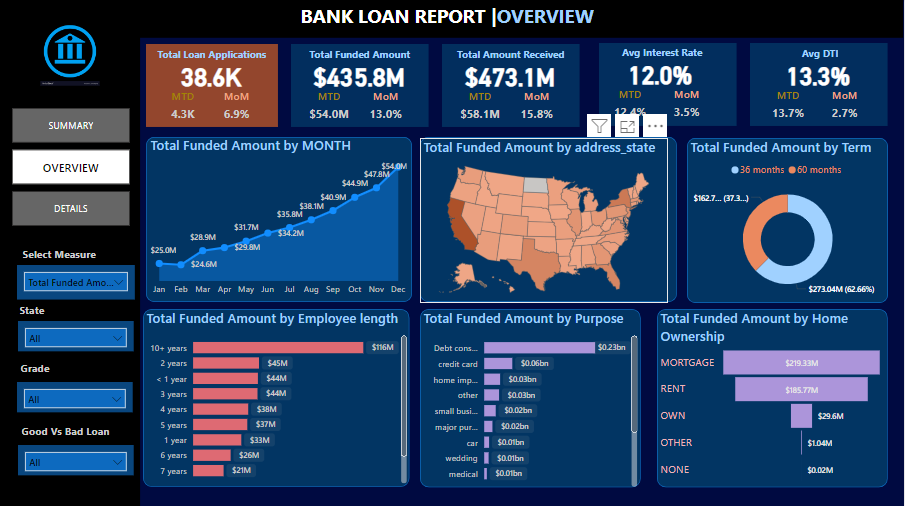

What the dashboard file says about the page in this screenshot:
{"tool":"powerbi","page":{"name":"OVERVIEW","canvas":[1280,720],"ordinal":1},"visuals":[{"type":"shape","box":[0,0,1280,55],"z":0},{"type":"shape","box":[849.7,62.4,195,117.5],"z":0,"group":"g4"},{"type":"shape","box":[1063.2,62.8,195.5,117.6],"z":0,"group":"g5"},{"type":"shape","box":[412.4,63.4,195.5,117.6],"z":0,"group":"g2"},{"type":"shape","box":[626,63.8,195.5,117.6],"z":0,"group":"g3"},{"type":"shape","box":[207.3,64.5,187.2,117.6],"z":0,"group":"g1"},{"type":"slicer","fields":{"Values":["bank_loan_data.address_state"]},"box":[25.2,456.6,164.4,43.3],"z":0,"group":"g6"},{"type":"slicer","fields":{"Values":["bank_loan_data.grade"]},"box":[24.3,542.1,164.3,42.9],"z":0,"group":"g9"},{"type":"slicer","fields":{"Values":["bank_loan_data.Good vs Bad Loan"]},"box":[25.7,631.9,164.3,42.9],"z":0,"group":"g10"},{"type":"shape","box":[1.5,0.3,195.5,117.6],"z":1000},{"type":"card","fields":{"Values":["bank_loan_data.Avg Interest Rate"]},"box":[838.3,82.2,195.4,46.2],"z":1000,"group":"g4"},{"type":"card","fields":{"Values":["bank_loan_data.Avg DTI"]},"box":[1061.7,83.9,195.4,46.2],"z":1000,"group":"g5"},{"type":"card","fields":{"Values":["bank_loan_data.Total Funded Amount"]},"box":[410.9,84.5,195.4,46.2],"z":1000,"group":"g2"},{"type":"card","fields":{"Values":["bank_loan_data.Total Amount Received"]},"box":[624.5,84.9,195.4,46.2],"z":1000,"group":"g3"},{"type":"card","fields":{"Values":["bank_loan_data.Total Loan Application"]},"box":[205.8,85.6,187.1,46.2],"z":1000,"group":"g1"},{"type":"textbox","box":[22.9,425.7,66.7,31.1],"z":1000,"group":"g6"},{"type":"textbox","box":[840,60.8,195,35],"z":2000,"group":"g4"},{"type":"textbox","box":[1063.4,62.5,195,35],"z":2000,"group":"g5"},{"type":"textbox","box":[412.6,63.1,195,35],"z":2000,"group":"g2"},{"type":"textbox","box":[626.2,63.5,195,35],"z":2000,"group":"g3"},{"type":"textbox","box":[207.4,64.2,186.7,35],"z":2000,"group":"g1"},{"type":"shape","box":[206.9,195.6,377,233.9],"z":2000},{"type":"shape","box":[0,0,198.6,722.9],"z":3000},{"type":"card","title":"MTD","fields":{"Values":["bank_loan_data.MTD Avg Int Rate"]},"box":[856.9,124.4,73.8,53.8],"z":3000,"group":"g4"},{"type":"card","title":"MTD","fields":{"Values":["bank_loan_data.MTD Avg DTI"]},"box":[1080.3,126.1,73.8,53.8],"z":3000,"group":"g5"},{"type":"card","title":"MTD","fields":{"Values":["bank_loan_data.MTD Funded Amomunt"]},"box":[429.5,126.7,73.8,53.8],"z":3000,"group":"g2"},{"type":"card","title":"MTD","fields":{"Values":["bank_loan_data.MTD Amomunt Received"]},"box":[643.1,127.1,73.8,53.8],"z":3000,"group":"g3"},{"type":"card","title":"MTD","fields":{"Values":["bank_loan_data.MTD Loan Applications"]},"box":[223.6,127.8,70.7,53.8],"z":3000,"group":"g1"},{"type":"textbox","box":[420.9,0,439.4,46.8],"z":4000},{"type":"card","title":"MoM","fields":{"Values":["bank_loan_data.MOM Avg Int Rate"]},"box":[937.7,124.4,73.1,53.8],"z":4000,"group":"g4"},{"type":"card","title":"MoM","fields":{"Values":["bank_loan_data.MOM Avg DTI"]},"box":[1161.1,126.1,73.1,53.8],"z":4000,"group":"g5"},{"type":"card","title":"MoM","fields":{"Values":["bank_loan_data.MOM Total Funded Amount"]},"box":[510.3,126.7,73.1,53.8],"z":4000,"group":"g2"},{"type":"card","title":"MoM","fields":{"Values":["bank_loan_data.MOM Total Amount Received"]},"box":[723.9,127.1,73.1,53.8],"z":4000,"group":"g3"},{"type":"card","title":"MoM","fields":{"Values":["bank_loan_data.MOM Loan Application"]},"box":[301,127.8,70,53.8],"z":4000,"group":"g1"},{"type":"group","id":"g1","title":"Group 1","box":[205.8,64.2,188.3,117.5],"z":5000},{"type":"group","id":"g2","title":"Group 1","box":[410.9,63.1,196.9,117.7],"z":6000},{"type":"group","id":"g3","title":"Group 1","box":[624.5,63.5,197,117.9],"z":7000},{"type":"group","id":"g4","title":"Group 1","box":[838.3,60.8,206.7,119.2],"z":8000},{"type":"group","id":"g5","title":"Group 1","box":[1061.7,62.5,196.7,117.5],"z":9000},{"type":"group","id":"g6","title":"Group 2","box":[22.9,425.7,165.7,74.3],"z":10000},{"type":"areaChart","fields":{"Y":["bank_loan_data.Total Funded Amount"],"Category":["Date Table.MONTH"]},"box":[208.9,194.4,373.3,234.4],"z":11000},{"type":"group","id":"g7","title":"Group 4","box":[24.3,507.1,164.3,77.1],"z":12000},{"type":"group","id":"g8","title":"Group 5","box":[24.3,345.7,167.1,80],"z":13000},{"type":"shape","box":[595.3,195.6,364.3,233.9],"z":14000},{"type":"shapeMap","fields":{"Value":["bank_loan_data.Total Funded Amount"],"Category":["bank_loan_data.address_state"]},"box":[595.3,197,351.5,233.9],"z":15000},{"type":"shape","box":[973.7,197,284.9,233.9],"z":16000},{"type":"donutChart","fields":{"Y":["bank_loan_data.Total Funded Amount"],"Category":["bank_loan_data.term"]},"box":[973.3,196.7,285.6,233.3],"z":17000},{"type":"shape","box":[203.3,440,377.8,252.2],"z":18000},{"type":"barChart","fields":{"Y":["bank_loan_data.Total Funded Amount"],"Category":["bank_loan_data.emp_length"]},"box":[203.3,440,378.9,252.2],"z":19000},{"type":"shape","box":[595.7,440,312.9,252.9],"z":20000},{"type":"barChart","fields":{"Y":["bank_loan_data.Total Funded Amount"],"Category":["bank_loan_data.purpose"]},"box":[595.7,440,312.9,257.1],"z":21000},{"type":"shape","box":[931.4,440,327.1,252.9],"z":22000},{"type":"funnel","fields":{"Y":["bank_loan_data.Total Funded Amount"],"Category":["bank_loan_data.home_ownership"]},"box":[931.4,440,325.7,252.9],"z":23000},{"type":"group","id":"g9","title":"Group 2","box":[24.3,542.1,164.3,42.9],"z":23000,"group":"g7"},{"type":"group","id":"g10","title":"Group 2","box":[25.7,631.9,164.3,42.9],"z":23000,"group":"g11"},{"type":"group","id":"g11","title":"Group 4","box":[25.7,597.1,164.3,77.1],"z":24000},{"type":"pageNavigator","box":[17.1,154.3,167.1,167.1],"z":25000},{"type":"image","box":[48.6,27.1,101.4,101.4],"z":26000},{"type":"textbox","box":[27.2,345.7,122.9,35.7],"z":26000,"group":"g8"},{"type":"textbox","box":[24.4,507.1,77.1,34.3],"z":27000,"group":"g7"},{"type":"textbox","box":[26.1,597.1,152.9,34.3],"z":27000,"group":"g11"},{"type":"slicer","fields":{"Values":["Select Measure.Select Measure"]},"box":[24.3,377.1,167.1,48.6],"z":27002,"group":"g8"}]}

Visuals, with their boxes in screenshot pixels (x1, y1, x2, y2), scaled from the page's 1280x720 canvas onto the 905x506 screenshot:
shape: {"x1": 0, "y1": 0, "x2": 904, "y2": 39}
shape: {"x1": 601, "y1": 44, "x2": 739, "y2": 126}
shape: {"x1": 752, "y1": 44, "x2": 890, "y2": 127}
shape: {"x1": 292, "y1": 45, "x2": 430, "y2": 127}
shape: {"x1": 443, "y1": 45, "x2": 581, "y2": 127}
shape: {"x1": 147, "y1": 45, "x2": 279, "y2": 128}
slicer - bank_loan_data.address_state: {"x1": 18, "y1": 321, "x2": 134, "y2": 351}
slicer - bank_loan_data.grade: {"x1": 17, "y1": 381, "x2": 133, "y2": 411}
slicer - bank_loan_data.Good vs Bad Loan: {"x1": 18, "y1": 444, "x2": 134, "y2": 474}
shape: {"x1": 1, "y1": 0, "x2": 139, "y2": 83}
card - bank_loan_data.Avg Interest Rate: {"x1": 593, "y1": 58, "x2": 731, "y2": 90}
card - bank_loan_data.Avg DTI: {"x1": 751, "y1": 59, "x2": 889, "y2": 91}
card - bank_loan_data.Total Funded Amount: {"x1": 291, "y1": 59, "x2": 429, "y2": 92}
card - bank_loan_data.Total Amount Received: {"x1": 442, "y1": 60, "x2": 580, "y2": 92}
card - bank_loan_data.Total Loan Application: {"x1": 146, "y1": 60, "x2": 278, "y2": 93}
textbox: {"x1": 16, "y1": 299, "x2": 63, "y2": 321}
textbox: {"x1": 594, "y1": 43, "x2": 732, "y2": 67}
textbox: {"x1": 752, "y1": 44, "x2": 890, "y2": 69}
textbox: {"x1": 292, "y1": 44, "x2": 430, "y2": 69}
textbox: {"x1": 443, "y1": 45, "x2": 581, "y2": 69}
textbox: {"x1": 147, "y1": 45, "x2": 279, "y2": 70}
shape: {"x1": 146, "y1": 137, "x2": 413, "y2": 302}
shape: {"x1": 0, "y1": 0, "x2": 140, "y2": 505}
"MTD" card: {"x1": 606, "y1": 87, "x2": 658, "y2": 125}
"MTD" card: {"x1": 764, "y1": 89, "x2": 816, "y2": 126}
"MTD" card: {"x1": 304, "y1": 89, "x2": 356, "y2": 127}
"MTD" card: {"x1": 455, "y1": 89, "x2": 507, "y2": 127}
"MTD" card: {"x1": 158, "y1": 90, "x2": 208, "y2": 128}
textbox: {"x1": 298, "y1": 0, "x2": 608, "y2": 33}
"MoM" card: {"x1": 663, "y1": 87, "x2": 715, "y2": 125}
"MoM" card: {"x1": 821, "y1": 89, "x2": 873, "y2": 126}
"MoM" card: {"x1": 361, "y1": 89, "x2": 412, "y2": 127}
"MoM" card: {"x1": 512, "y1": 89, "x2": 564, "y2": 127}
"MoM" card: {"x1": 213, "y1": 90, "x2": 262, "y2": 128}
"Group 1" group: {"x1": 146, "y1": 45, "x2": 279, "y2": 128}
"Group 1" group: {"x1": 291, "y1": 44, "x2": 430, "y2": 127}
"Group 1" group: {"x1": 442, "y1": 45, "x2": 581, "y2": 127}
"Group 1" group: {"x1": 593, "y1": 43, "x2": 739, "y2": 126}
"Group 1" group: {"x1": 751, "y1": 44, "x2": 890, "y2": 126}
"Group 2" group: {"x1": 16, "y1": 299, "x2": 133, "y2": 351}
areaChart - bank_loan_data.Total Funded Amount x Date Table.MONTH: {"x1": 148, "y1": 137, "x2": 412, "y2": 301}
"Group 4" group: {"x1": 17, "y1": 356, "x2": 133, "y2": 411}
"Group 5" group: {"x1": 17, "y1": 243, "x2": 135, "y2": 299}
shape: {"x1": 421, "y1": 137, "x2": 678, "y2": 302}
shapeMap - bank_loan_data.Total Funded Amount x bank_loan_data.address_state: {"x1": 421, "y1": 138, "x2": 669, "y2": 303}
shape: {"x1": 688, "y1": 138, "x2": 890, "y2": 303}
donutChart - bank_loan_data.Total Funded Amount x bank_loan_data.term: {"x1": 688, "y1": 138, "x2": 890, "y2": 302}
shape: {"x1": 144, "y1": 309, "x2": 411, "y2": 486}
barChart - bank_loan_data.Total Funded Amount x bank_loan_data.emp_length: {"x1": 144, "y1": 309, "x2": 412, "y2": 486}
shape: {"x1": 421, "y1": 309, "x2": 642, "y2": 487}
barChart - bank_loan_data.Total Funded Amount x bank_loan_data.purpose: {"x1": 421, "y1": 309, "x2": 642, "y2": 490}
shape: {"x1": 659, "y1": 309, "x2": 890, "y2": 487}
funnel - bank_loan_data.Total Funded Amount x bank_loan_data.home_ownership: {"x1": 659, "y1": 309, "x2": 889, "y2": 487}
"Group 2" group: {"x1": 17, "y1": 381, "x2": 133, "y2": 411}
"Group 2" group: {"x1": 18, "y1": 444, "x2": 134, "y2": 474}
"Group 4" group: {"x1": 18, "y1": 420, "x2": 134, "y2": 474}
pageNavigator: {"x1": 12, "y1": 108, "x2": 130, "y2": 226}
image: {"x1": 34, "y1": 19, "x2": 106, "y2": 90}
textbox: {"x1": 19, "y1": 243, "x2": 106, "y2": 268}
textbox: {"x1": 17, "y1": 356, "x2": 72, "y2": 380}
textbox: {"x1": 18, "y1": 420, "x2": 127, "y2": 444}
slicer - Select Measure.Select Measure: {"x1": 17, "y1": 265, "x2": 135, "y2": 299}
